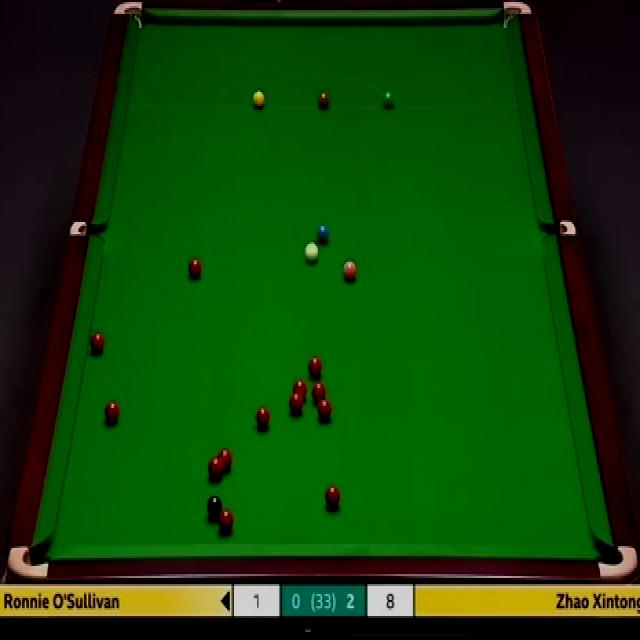black-ball: (206, 494, 223, 521)
blue-ball: (315, 222, 331, 247)
brown-ball: (317, 91, 331, 111)
green-ball: (380, 90, 394, 112)
pink-ball: (341, 256, 360, 284)
red-ball: (217, 509, 235, 536), (103, 398, 120, 426), (206, 457, 225, 482), (88, 330, 105, 356), (188, 256, 204, 280), (256, 408, 272, 432), (325, 485, 340, 510), (288, 393, 304, 416), (308, 355, 323, 379), (291, 379, 308, 400), (218, 448, 234, 470), (317, 398, 332, 420), (311, 382, 327, 402)
white-ball: (303, 240, 319, 266)
yellow-ball: (252, 90, 266, 110)
